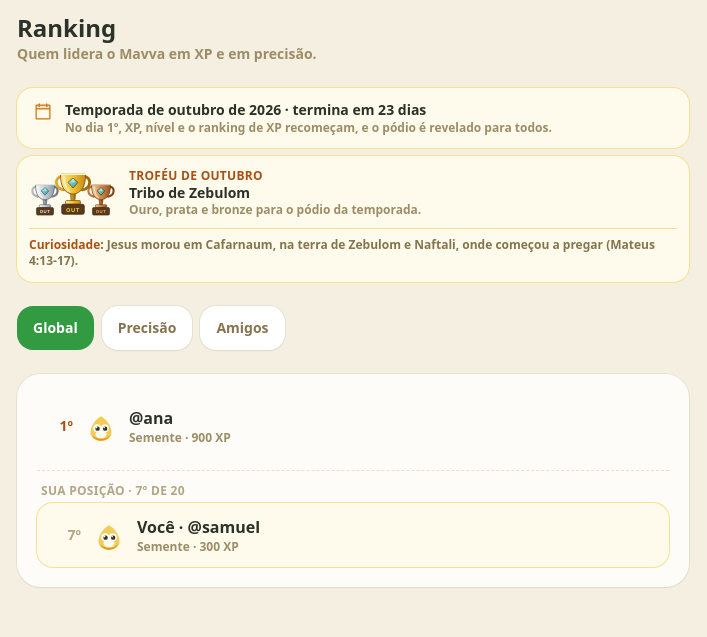
Scenario: RankingPage › Precisão tab › tells players below Espiga when they will enter
Click the button "Precisão" at (147, 328), box left=102, top=306, right=192, bottom=350
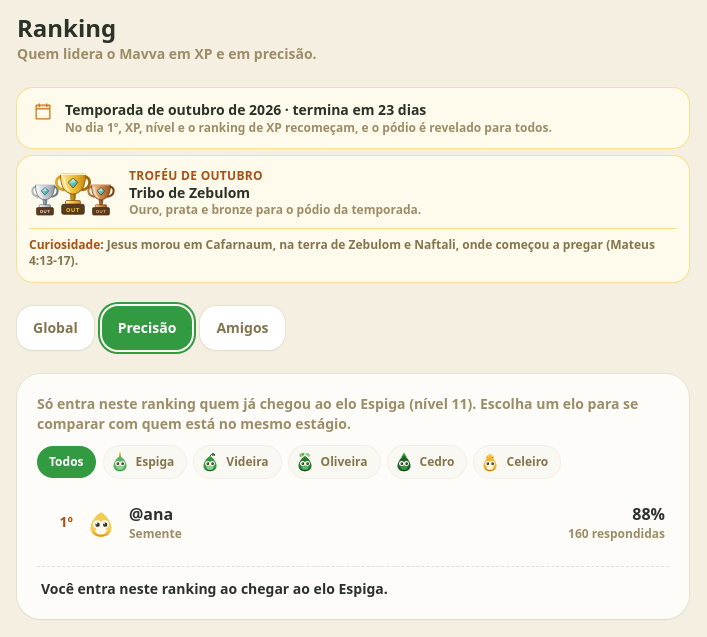
Now the text "Só entra neste ranking quem já chegou ao elo Espiga (nível 11)" is shown, box left=37, top=394, right=669, bottom=434
Now the text "Você entra neste ranking ao chegar ao elo Espiga." is shown, box left=37, top=566, right=669, bottom=598
Now the text "Sua posição" is gone
